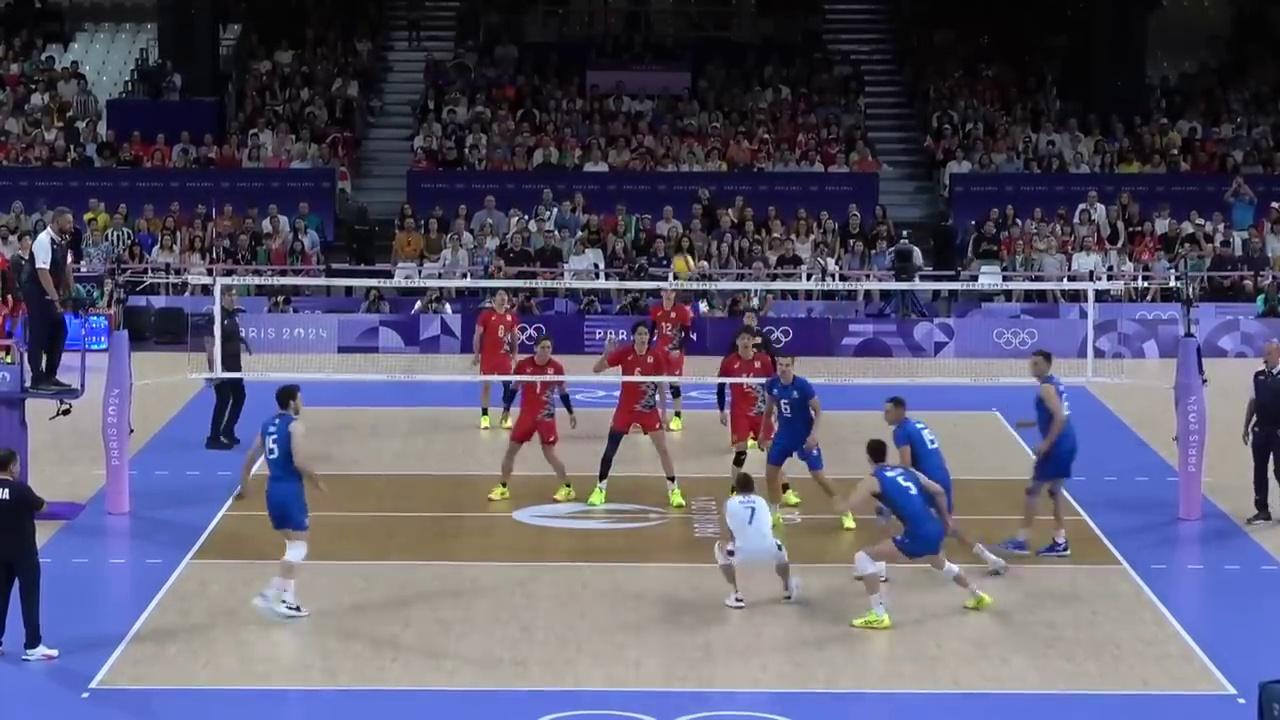ball: (671, 254, 695, 279)
